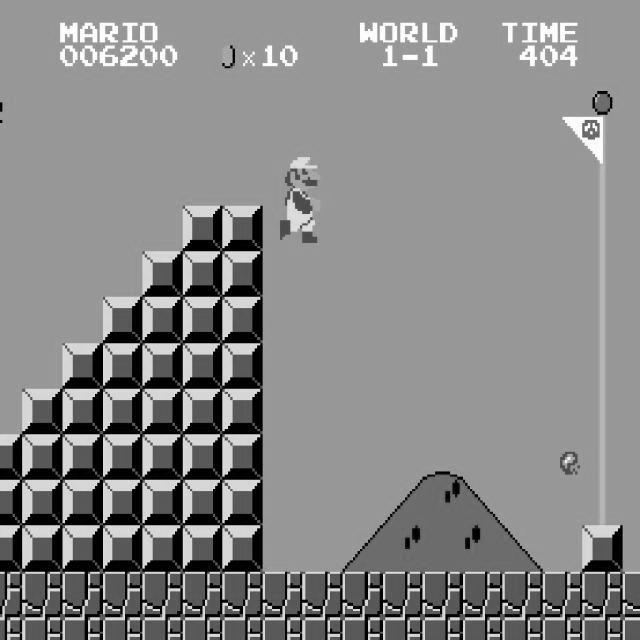17- undestructible_block: (22, 572, 63, 618), (62, 572, 103, 618), (102, 572, 143, 618), (142, 572, 183, 618), (182, 572, 223, 618), (222, 572, 263, 618), (262, 572, 303, 618), (302, 572, 343, 618), (342, 572, 383, 618), (382, 572, 423, 618), (422, 572, 463, 618), (462, 572, 503, 618), (502, 572, 543, 618), (542, 572, 583, 618), (582, 572, 623, 618), (0, 572, 22, 618), (22, 617, 63, 640), (62, 617, 103, 640), (102, 617, 143, 640), (142, 617, 183, 640), (182, 617, 223, 640), (222, 617, 263, 640), (262, 617, 303, 640), (302, 617, 343, 640), (342, 617, 383, 640), (382, 617, 423, 640), (422, 617, 463, 640), (462, 617, 503, 640), (502, 617, 543, 640), (542, 617, 583, 640), (582, 617, 623, 640), (622, 571, 640, 617), (0, 617, 22, 640), (622, 617, 640, 639)
4- fire_mario: (277, 149, 320, 243)
5- fireball: (560, 448, 580, 474)
7- goal_pole: (582, 68, 623, 114), (582, 114, 623, 160), (582, 160, 623, 206), (582, 252, 623, 298), (582, 297, 623, 343), (582, 388, 623, 434), (582, 434, 623, 480), (582, 480, 623, 526), (582, 206, 623, 251), (582, 343, 623, 388)
9- hard_block: (22, 388, 63, 434), (22, 434, 63, 480), (22, 480, 63, 526), (22, 526, 63, 572), (62, 388, 103, 434), (62, 434, 103, 480), (62, 480, 103, 526), (62, 526, 103, 572), (102, 297, 143, 343), (102, 388, 143, 434), (102, 434, 143, 480), (102, 480, 143, 526), (102, 526, 143, 572), (142, 252, 183, 298), (142, 297, 183, 343), (142, 388, 183, 434), (142, 434, 183, 480), (142, 480, 183, 526), (142, 526, 183, 572), (182, 252, 223, 298), (182, 297, 223, 343), (182, 388, 223, 434), (182, 434, 223, 480), (182, 480, 223, 526), (182, 526, 223, 572), (222, 252, 263, 298), (222, 297, 263, 343), (222, 388, 263, 434), (222, 434, 263, 480), (222, 480, 263, 526), (222, 526, 263, 572), (582, 526, 623, 572), (62, 343, 103, 388), (102, 343, 143, 388), (142, 343, 183, 388), (182, 206, 223, 251), (182, 343, 223, 388), (222, 206, 263, 251), (222, 343, 263, 388), (0, 434, 22, 480), (0, 480, 22, 526), (0, 526, 22, 572)
